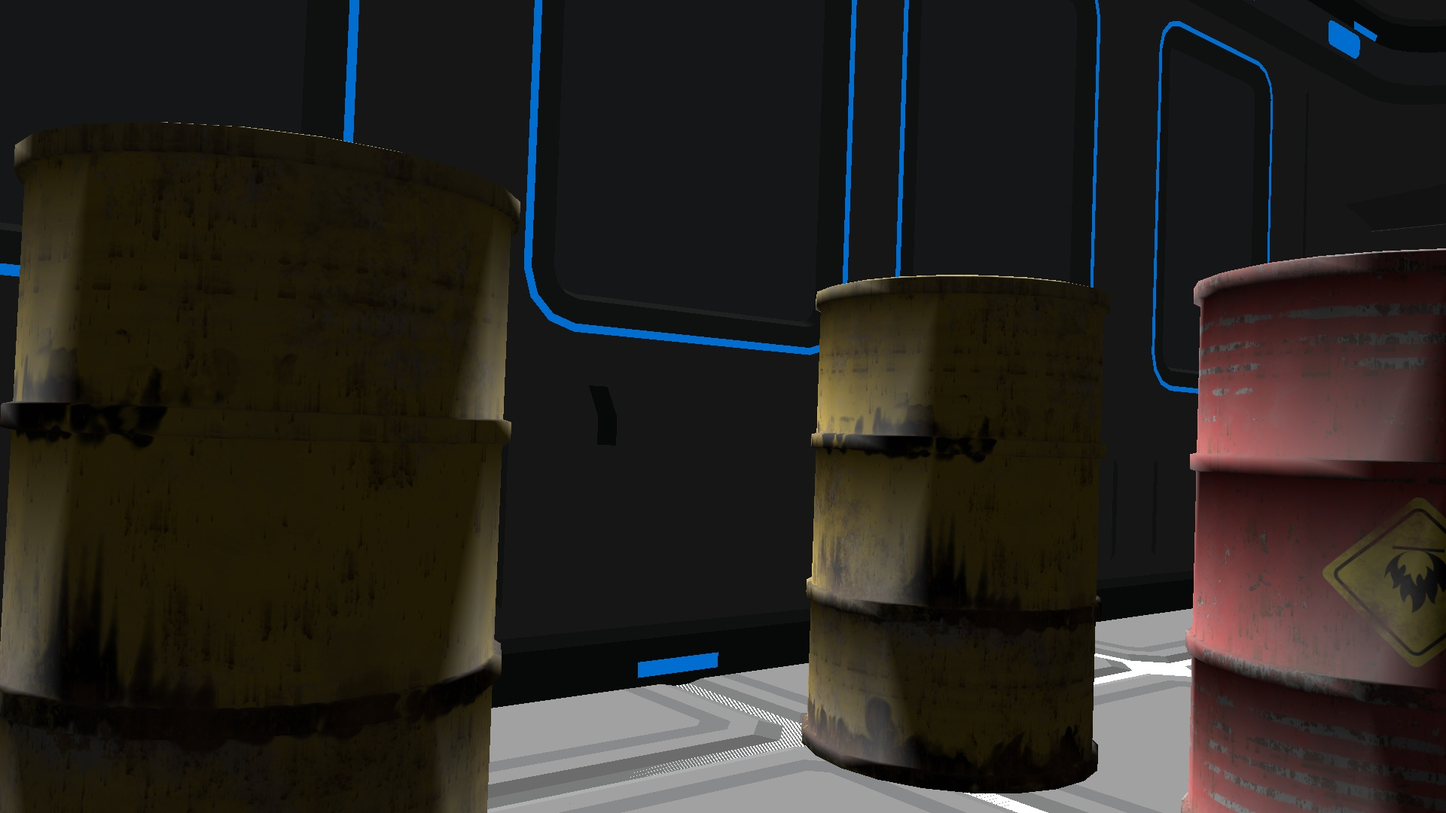toxic barrel: (0, 119, 524, 813), (800, 273, 1101, 793), (1176, 246, 1446, 813)
